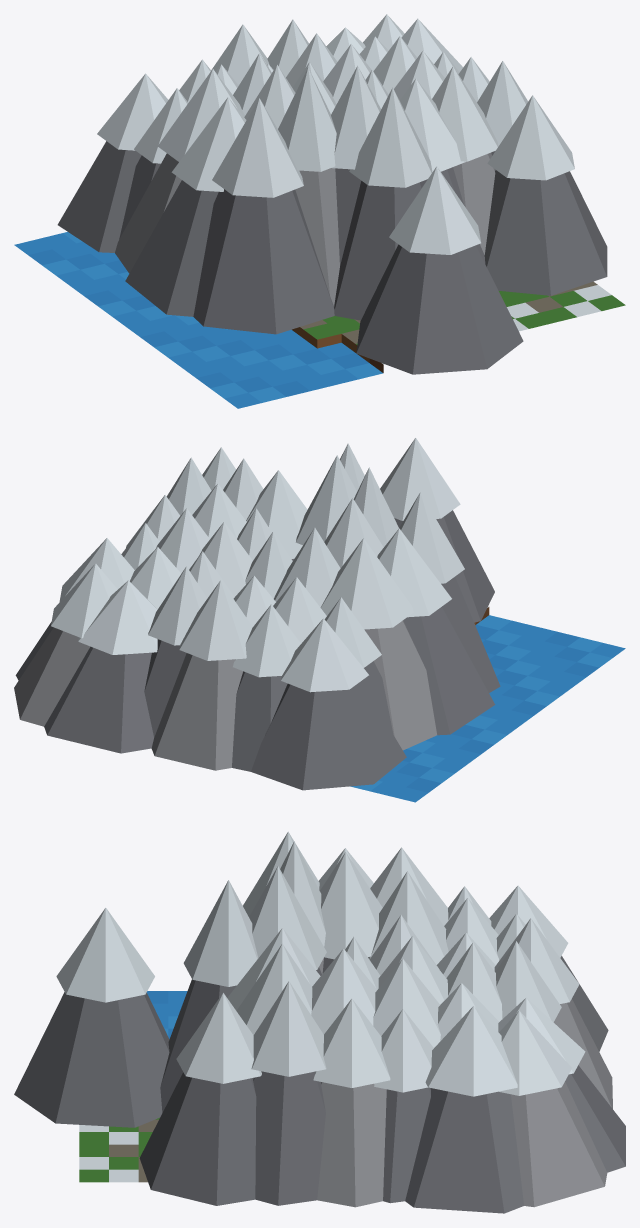
Rendered from chunk_4_0.glb.
3 views of the same model, one above another, from view 1: azimuth 30°, elevation 25°; view 2: azimuth 150°, elevation 25°; view 3: azimuth 270°, elevation 25° (orthographic). The views are drawn at different scales.
Parts seen in each view (by area): view 1: chunk_4_0; view 2: chunk_4_0; view 3: chunk_4_0.
Part boxes in pixels (left/top/right/bottom): chunk_4_0: left=14, top=14, right=625, bottom=408; chunk_4_0: left=14, top=438, right=625, bottom=802; chunk_4_0: left=14, top=831, right=625, bottom=1213.
Size of the model in its own units: 18.5 by 8.88 by 20.64.
